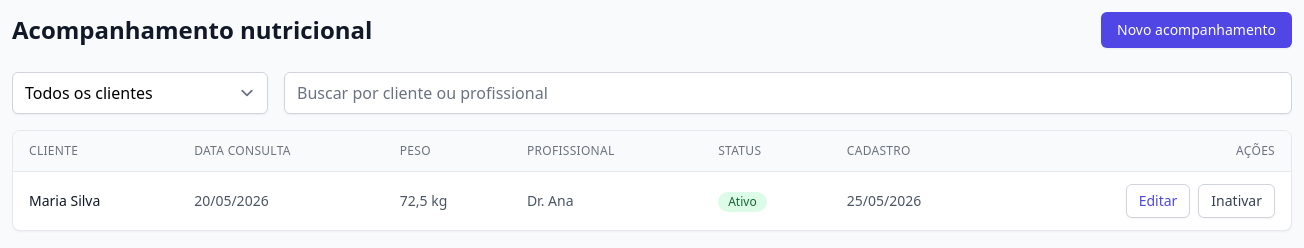
Test case: AcompanhamentoListPage › shows no results message when search returns empty
Expected: the text "Maria Silva" is shown, [13,172,178,230]
Type "xyz" into the search field with placeholder "Buscar por cliente ou profissional". click: {"x": 788, "y": 93}
box: [284,72,1292,114]
Wait 300 ms
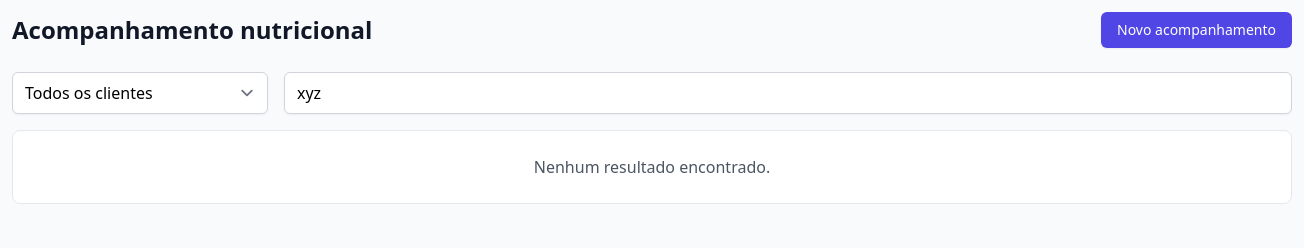
Now the text "Nenhum resultado encontrado." is shown, box [12,130,1292,204]
